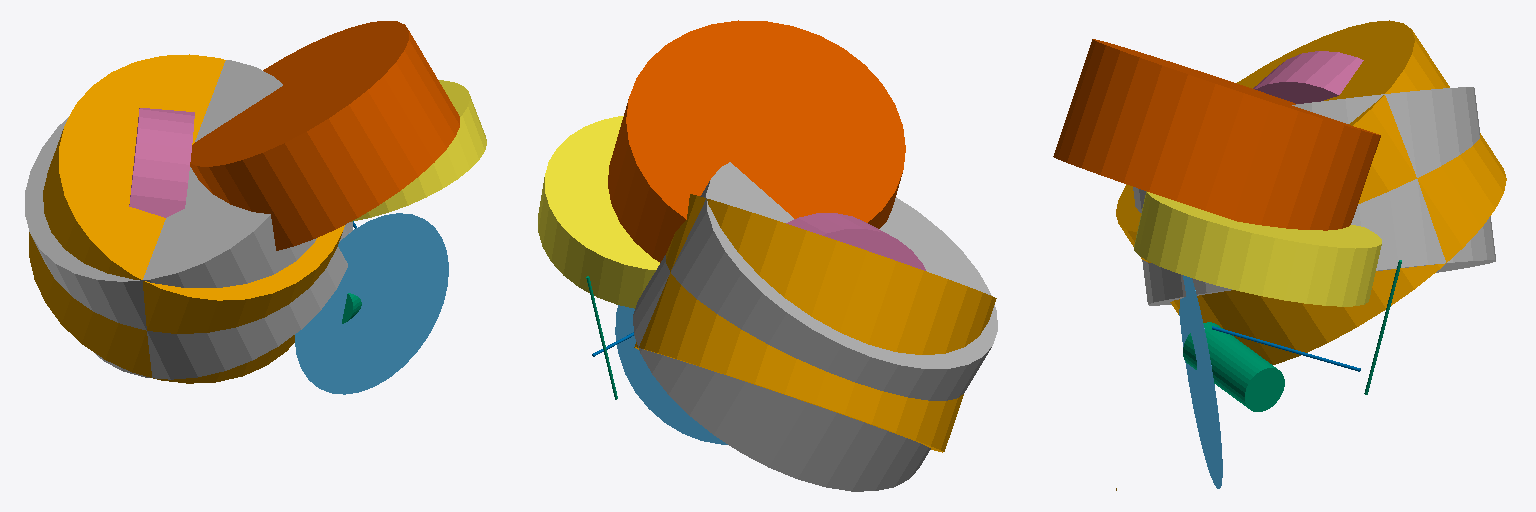
robot.urdf — pepe:
<robot name="pepe">
	<link name="0">
		<visual>
			<geometry>
				<cylinder length="0.019972807067224967" radius="0.002011686301548709"/>
			</geometry>
		</visual>
		<collision>
			<geometry>
				<cylinder length="0.019972807067224967" radius="0.002011686301548709"/>
			</geometry>
		</collision>
		<inertial>
			<mass value="2.5392735959833216e-07"/>
			<inertia ixx="0.03" iyy="0.03" izz="0.03" ixy="0" ixz="0" iyx="0"/>
		</inertial>
	</link>
	<link name="11">
		<visual>
			<geometry>
				<cylinder length="0.00018669200855736634" radius="0.6433571912630214"/>
			</geometry>
		</visual>
		<collision>
			<geometry>
				<cylinder length="0.00018669200855736634" radius="0.6433571912630214"/>
			</geometry>
		</collision>
		<inertial>
			<mass value="0.00024276156039558443"/>
			<inertia ixx="0.03" iyy="0.03" izz="0.03" ixy="0" ixz="0" iyx="0"/>
		</inertial>
	</link>
	<link name="22">
		<visual>
			<geometry>
				<cylinder length="0.5825346973094198" radius="0.1344101030337398"/>
			</geometry>
		</visual>
		<collision>
			<geometry>
				<cylinder length="0.5825346973094198" radius="0.1344101030337398"/>
			</geometry>
		</collision>
		<inertial>
			<mass value="0.03306248549946934"/>
			<inertia ixx="0.03" iyy="0.03" izz="0.03" ixy="0" ixz="0" iyx="0"/>
		</inertial>
	</link>
	<link name="53">
		<visual>
			<geometry>
				<cylinder length="0.32991061629635154" radius="0.659888503144035"/>
			</geometry>
		</visual>
		<collision>
			<geometry>
				<cylinder length="0.32991061629635154" radius="0.659888503144035"/>
			</geometry>
		</collision>
		<inertial>
			<mass value="0.45132281440264777"/>
			<inertia ixx="0.03" iyy="0.03" izz="0.03" ixy="0" ixz="0" iyx="0"/>
		</inertial>
	</link>
	<link name="74">
		<visual>
			<geometry>
				<cylinder length="0.03422035883181883" radius="0.021542928580594145"/>
			</geometry>
		</visual>
		<collision>
			<geometry>
				<cylinder length="0.03422035883181883" radius="0.021542928580594145"/>
			</geometry>
		</collision>
		<inertial>
			<mass value="4.989349364993216e-05"/>
			<inertia ixx="0.03" iyy="0.03" izz="0.03" ixy="0" ixz="0" iyx="0"/>
		</inertial>
	</link>
	<link name="35">
		<visual>
			<geometry>
				<cylinder length="0.6767822617877952" radius="0.8325034157491421"/>
			</geometry>
		</visual>
		<collision>
			<geometry>
				<cylinder length="0.6767822617877952" radius="0.8325034157491421"/>
			</geometry>
		</collision>
		<inertial>
			<mass value="1.473570397274502"/>
			<inertia ixx="0.03" iyy="0.03" izz="0.03" ixy="0" ixz="0" iyx="0"/>
		</inertial>
	</link>
	<link name="46">
		<visual>
			<geometry>
				<cylinder length="0.358516004105492" radius="0.6289221186312428"/>
			</geometry>
		</visual>
		<collision>
			<geometry>
				<cylinder length="0.358516004105492" radius="0.6289221186312428"/>
			</geometry>
		</collision>
		<inertial>
			<mass value="0.4455045639168888"/>
			<inertia ixx="0.03" iyy="0.03" izz="0.03" ixy="0" ixz="0" iyx="0"/>
		</inertial>
	</link>
	<link name="87">
		<visual>
			<geometry>
				<cylinder length="0.9525721408762844" radius="0.9599301255418282"/>
			</geometry>
		</visual>
		<collision>
			<geometry>
				<cylinder length="0.9525721408762844" radius="0.9599301255418282"/>
			</geometry>
		</collision>
		<inertial>
			<mass value="2.7575728297932733"/>
			<inertia ixx="0.03" iyy="0.03" izz="0.03" ixy="0" ixz="0" iyx="0"/>
		</inertial>
	</link>
	<link name="88">
		<visual>
			<geometry>
				<cylinder length="0.9525721408762844" radius="0.9599301255418282"/>
			</geometry>
		</visual>
		<collision>
			<geometry>
				<cylinder length="0.9525721408762844" radius="0.9599301255418282"/>
			</geometry>
		</collision>
		<inertial>
			<mass value="2.7575728297932733"/>
			<inertia ixx="0.03" iyy="0.03" izz="0.03" ixy="0" ixz="0" iyx="0"/>
		</inertial>
	</link>
	<link name="69">
		<visual>
			<geometry>
				<cylinder length="0.00153756204312816" radius="0.02708229181987041"/>
			</geometry>
		</visual>
		<collision>
			<geometry>
				<cylinder length="0.00153756204312816" radius="0.02708229181987041"/>
			</geometry>
		</collision>
		<inertial>
			<mass value="3.5428547611058314e-06"/>
			<inertia ixx="0.03" iyy="0.03" izz="0.03" ixy="0" ixz="0" iyx="0"/>
		</inertial>
	</link>
	<link name="910">
		<visual>
			<geometry>
				<cylinder length="0.8666719520135922" radius="0.009530695051741422"/>
			</geometry>
		</visual>
		<collision>
			<geometry>
				<cylinder length="0.8666719520135922" radius="0.009530695051741422"/>
			</geometry>
		</collision>
		<inertial>
			<mass value="0.0002473168818197325"/>
			<inertia ixx="0.03" iyy="0.03" izz="0.03" ixy="0" ixz="0" iyx="0"/>
		</inertial>
	</link>
	<link name="611">
		<visual>
			<geometry>
				<cylinder length="0.00153756204312816" radius="0.02708229181987041"/>
			</geometry>
		</visual>
		<collision>
			<geometry>
				<cylinder length="0.00153756204312816" radius="0.02708229181987041"/>
			</geometry>
		</collision>
		<inertial>
			<mass value="3.5428547611058314e-06"/>
			<inertia ixx="0.03" iyy="0.03" izz="0.03" ixy="0" ixz="0" iyx="0"/>
		</inertial>
	</link>
	<link name="912">
		<visual>
			<geometry>
				<cylinder length="0.8666719520135922" radius="0.009530695051741422"/>
			</geometry>
		</visual>
		<collision>
			<geometry>
				<cylinder length="0.8666719520135922" radius="0.009530695051741422"/>
			</geometry>
		</collision>
		<inertial>
			<mass value="0.0002473168818197325"/>
			<inertia ixx="0.03" iyy="0.03" izz="0.03" ixy="0" ixz="0" iyx="0"/>
		</inertial>
	</link>
	<joint name="11_to_0" type="revolute">
		<parent link="0"/>
		<child link="11"/>
		<axis xyz="0 0 1"/>
		<limit effort="1" upper="-3.1415" lower="3.1415" velocity="1"/>
		<origin rpy="4.599220098856529 3.612390086619138 0.21865470734290898" xyz="0.6270726565351545 0.45386870664634127 0.9934344682645572"/>
	</joint>
	<joint name="22_to_11" type="revolute">
		<parent link="11"/>
		<child link="22"/>
		<axis xyz="1 0 0"/>
		<limit effort="1" upper="-3.1415" lower="3.1415" velocity="1"/>
		<origin rpy="11.626505171087503 5.516802298202429 0.7791319437868018" xyz="0.0019279200350848108 0.0005248485264476697 0.18877120123119884"/>
	</joint>
	<joint name="53_to_22" type="revolute">
		<parent link="22"/>
		<child link="53"/>
		<axis xyz="0 0 1"/>
		<limit effort="1" upper="-3.1415" lower="3.1415" velocity="1"/>
		<origin rpy="0.10051264616390823 1.3953726500600625 3.620509695951334" xyz="0.6345348520150791 0.6369416216841768 0.23249578398044024"/>
	</joint>
	<joint name="74_to_53" type="revolute">
		<parent link="53"/>
		<child link="74"/>
		<axis xyz="1 0 0"/>
		<limit effort="1" upper="-3.1415" lower="3.1415" velocity="1"/>
		<origin rpy="2.926150237106665 3.4902134344414972 2.629317776859516" xyz="0.7645397743925203 0.7419708613084566 0.4547575271281963"/>
	</joint>
	<joint name="35_to_11" type="revolute">
		<parent link="11"/>
		<child link="35"/>
		<axis xyz="0 1 0"/>
		<limit effort="1" upper="-3.1415" lower="3.1415" velocity="1"/>
		<origin rpy="15.855197879314145 4.22851677776207 0.5600087386388388" xyz="0.807546668794237 0.9347432046170919 0.26792392211434435"/>
	</joint>
	<joint name="46_to_35" type="revolute">
		<parent link="35"/>
		<child link="46"/>
		<axis xyz="0 1 0"/>
		<limit effort="1" upper="-3.1415" lower="3.1415" velocity="1"/>
		<origin rpy="6.785089119530647 2.3121756090544063 4.853502502754321" xyz="0.7134389939078161 0.9788641507588274 0.06884801253084266"/>
	</joint>
	<joint name="87_to_46" type="revolute">
		<parent link="46"/>
		<child link="87"/>
		<axis xyz="0 1 0"/>
		<limit effort="1" upper="-3.1415" lower="3.1415" velocity="1"/>
		<origin rpy="1.1237722998584785 3.348510114491183 5.698737545195735" xyz="0.06871412873716953 0.004037602245073173 0.23027762422650355"/>
	</joint>
	<joint name="88_to_46" type="revolute">
		<parent link="46"/>
		<child link="88"/>
		<axis xyz="0 1 0"/>
		<limit effort="1" upper="-3.1415" lower="3.1415" velocity="1"/>
		<origin rpy="1.6856584497877178 3.348510114491183 5.698737545195735" xyz="0.06871412873716953 0.004037602245073173 0.23027762422650355"/>
	</joint>
	<joint name="69_to_11" type="revolute">
		<parent link="11"/>
		<child link="69"/>
		<axis xyz="0 0 1"/>
		<limit effort="1" upper="-3.1415" lower="3.1415" velocity="1"/>
		<origin rpy="8.017034822677475 0.05533769728429409 3.3105613913002006" xyz="0.7252082934959747 0.33647244760358364 0.807868748932156"/>
	</joint>
	<joint name="910_to_69" type="revolute">
		<parent link="69"/>
		<child link="910"/>
		<axis xyz="1 0 0"/>
		<limit effort="1" upper="-3.1415" lower="3.1415" velocity="1"/>
		<origin rpy="12.563243166752654 3.812815070792501 2.4461132247565334" xyz="0.8924978116774904 0.2606141273489724 0.19186871259847094"/>
	</joint>
	<joint name="611_to_11" type="revolute">
		<parent link="11"/>
		<child link="611"/>
		<axis xyz="0 0 1"/>
		<limit effort="1" upper="-3.1415" lower="3.1415" velocity="1"/>
		<origin rpy="10.021293528346844 0.05533769728429409 3.3105613913002006" xyz="0.7252082934959747 0.33647244760358364 0.807868748932156"/>
	</joint>
	<joint name="912_to_611" type="revolute">
		<parent link="611"/>
		<child link="912"/>
		<axis xyz="1 0 0"/>
		<limit effort="1" upper="-3.1415" lower="3.1415" velocity="1"/>
		<origin rpy="12.563243166752654 3.812815070792501 2.4461132247565334" xyz="0.8924978116774904 0.2606141273489724 0.19186871259847094"/>
	</joint>
</robot>

--- Facts derived from the render (not from the file) ---
Views: 3 orthographic renders of the robot side by side, from view 1: azimuth 30°, elevation 25°; view 2: azimuth 150°, elevation 25°; view 3: azimuth 270°, elevation 25°.
Model pepe with 13 links and 12 joints (12 revolute), rooted at 0, posed all joints at 0.
Visible links, largest first — view 1: 35, 88, 87, 11, 46, 53; view 2: 35, 87, 88, 53, 11, 46; view 3: 35, 88, 53, 87, 22, 11, 46, 912.
Boxes of the visible links, left/top/right/bottom form: 35: left=190, top=21, right=459, bottom=250; 88: left=29, top=54, right=344, bottom=383; 87: left=25, top=60, right=352, bottom=379; 11: left=295, top=213, right=448, bottom=394; 46: left=129, top=108, right=194, bottom=217; 53: left=351, top=80, right=486, bottom=221; 35: left=608, top=20, right=905, bottom=262; 87: left=633, top=162, right=997, bottom=491; 88: left=634, top=194, right=996, bottom=452; 53: left=538, top=116, right=659, bottom=308; 11: left=615, top=305, right=727, bottom=444; 46: left=786, top=213, right=925, bottom=270; 35: left=1053, top=39, right=1380, bottom=230; 88: left=1116, top=20, right=1506, bottom=364; 53: left=1134, top=191, right=1381, bottom=306; 87: left=1133, top=87, right=1495, bottom=305; 22: left=1183, top=322, right=1284, bottom=411; 11: left=1179, top=275, right=1222, bottom=488; 46: left=1253, top=51, right=1363, bottom=103; 912: left=1212, top=326, right=1360, bottom=371.
Bounding box of the posed robot: 3.02 × 2.47 × 2.93 m (x, y, z).
Geometry: primitives only (box / cylinder / sphere), no mesh files.
